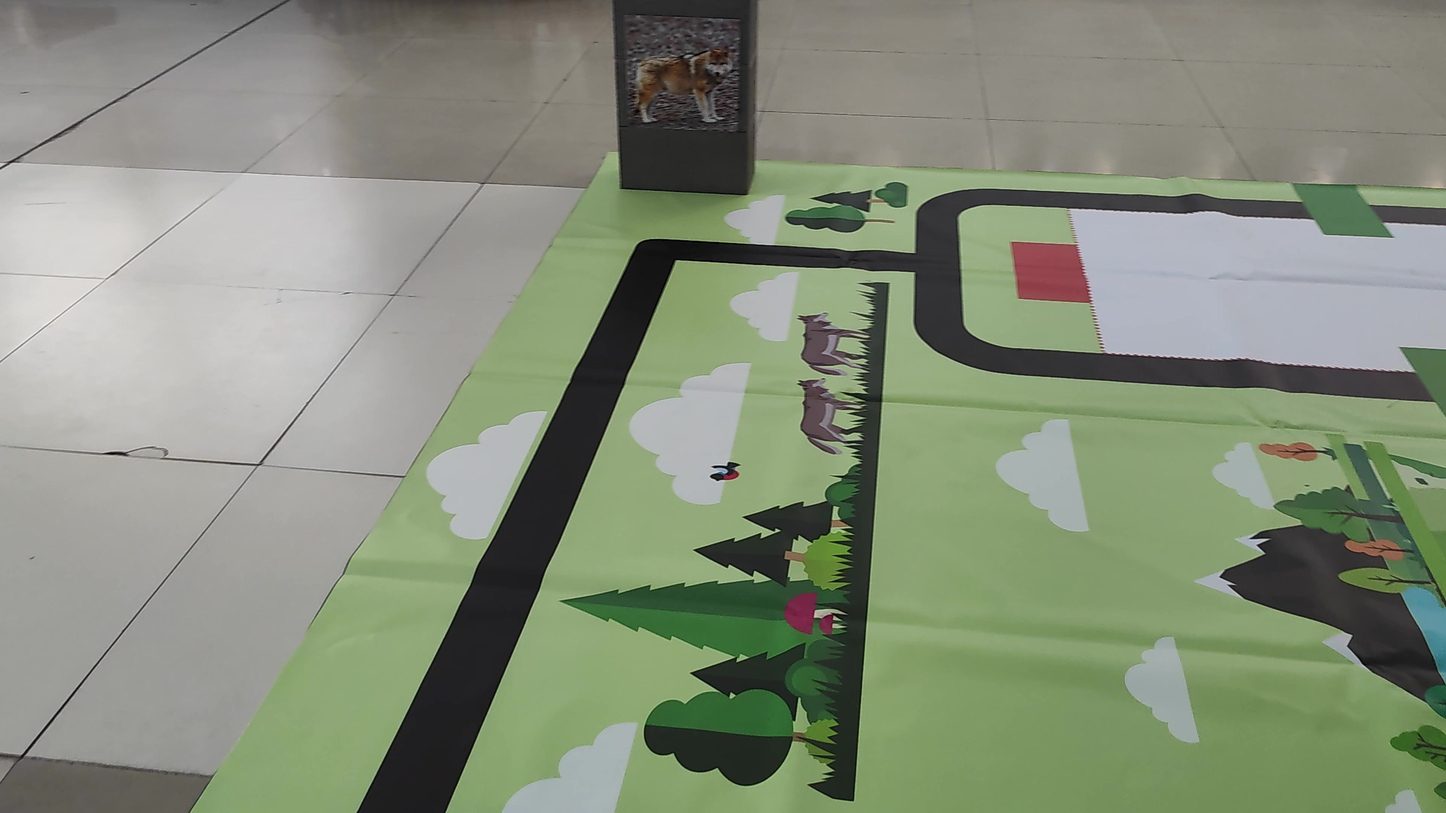wolf: (622, 18, 738, 149)
